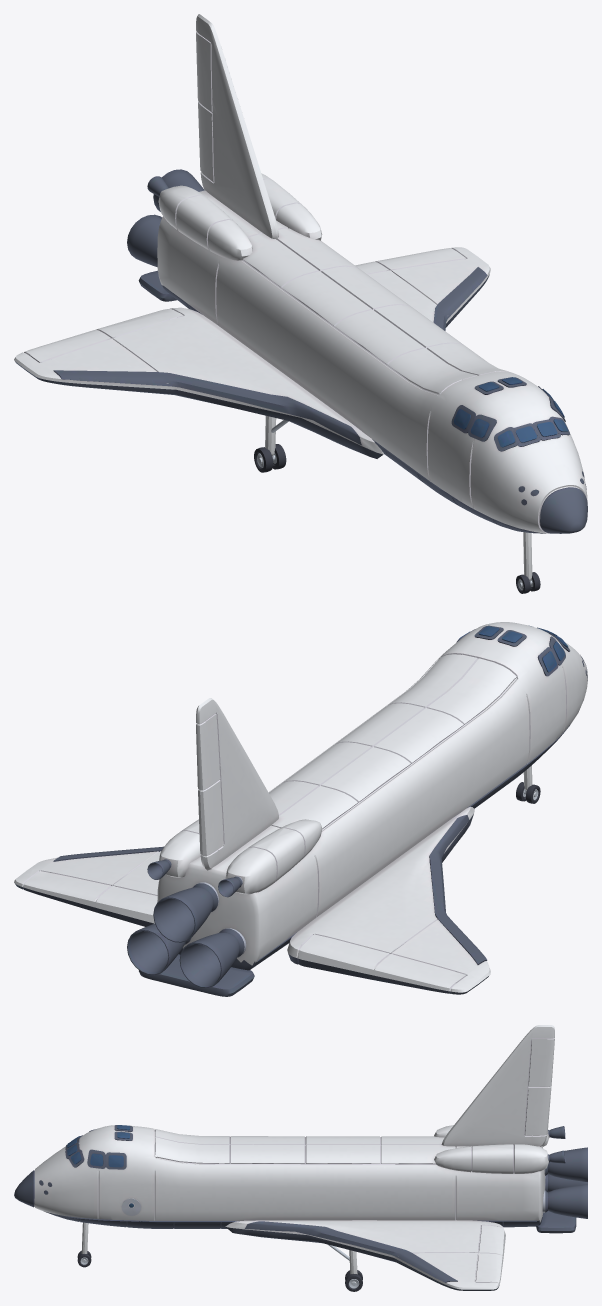
File: space-shuttle.glb
The picture shows the model from 3 angles, top to bottom: view 1: azimuth 30°, elevation 25°; view 2: azimuth 150°, elevation 25°; view 3: azimuth 270°, elevation 25°; orthographic projection. The views are drawn at different scales.
Parts seen in each view (by area): view 1: space-shuttle_body, space-shuttle_landing_gear; view 2: space-shuttle_body; view 3: space-shuttle_body, space-shuttle_landing_gear.
Part boxes in pixels (left/top/right/bottom): space-shuttle_body: left=14, top=14, right=587, bottom=533; space-shuttle_landing_gear: left=258, top=415, right=532, bottom=586; space-shuttle_body: left=14, top=622, right=587, bottom=996; space-shuttle_body: left=14, top=1025, right=587, bottom=1290; space-shuttle_landing_gear: left=81, top=1222, right=357, bottom=1285.
Size of the model in its own units: 23.8 by 16.89 by 36.63.
Materials: 22 (1 with a texture image).
